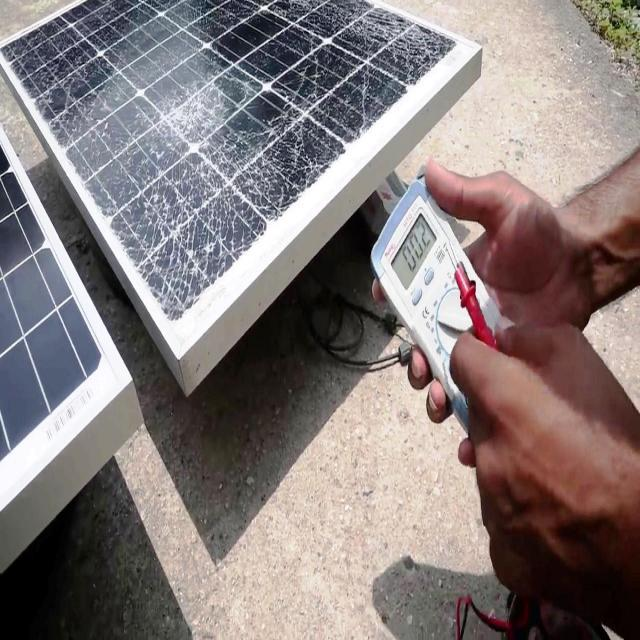faulty: (0, 0, 478, 318)
no faulty: (2, 110, 104, 487)
